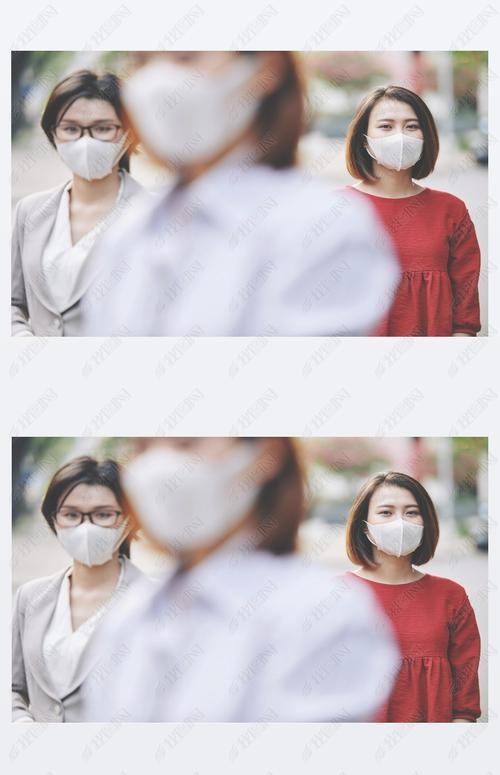mask: (349, 474, 442, 563), (51, 83, 129, 188)
